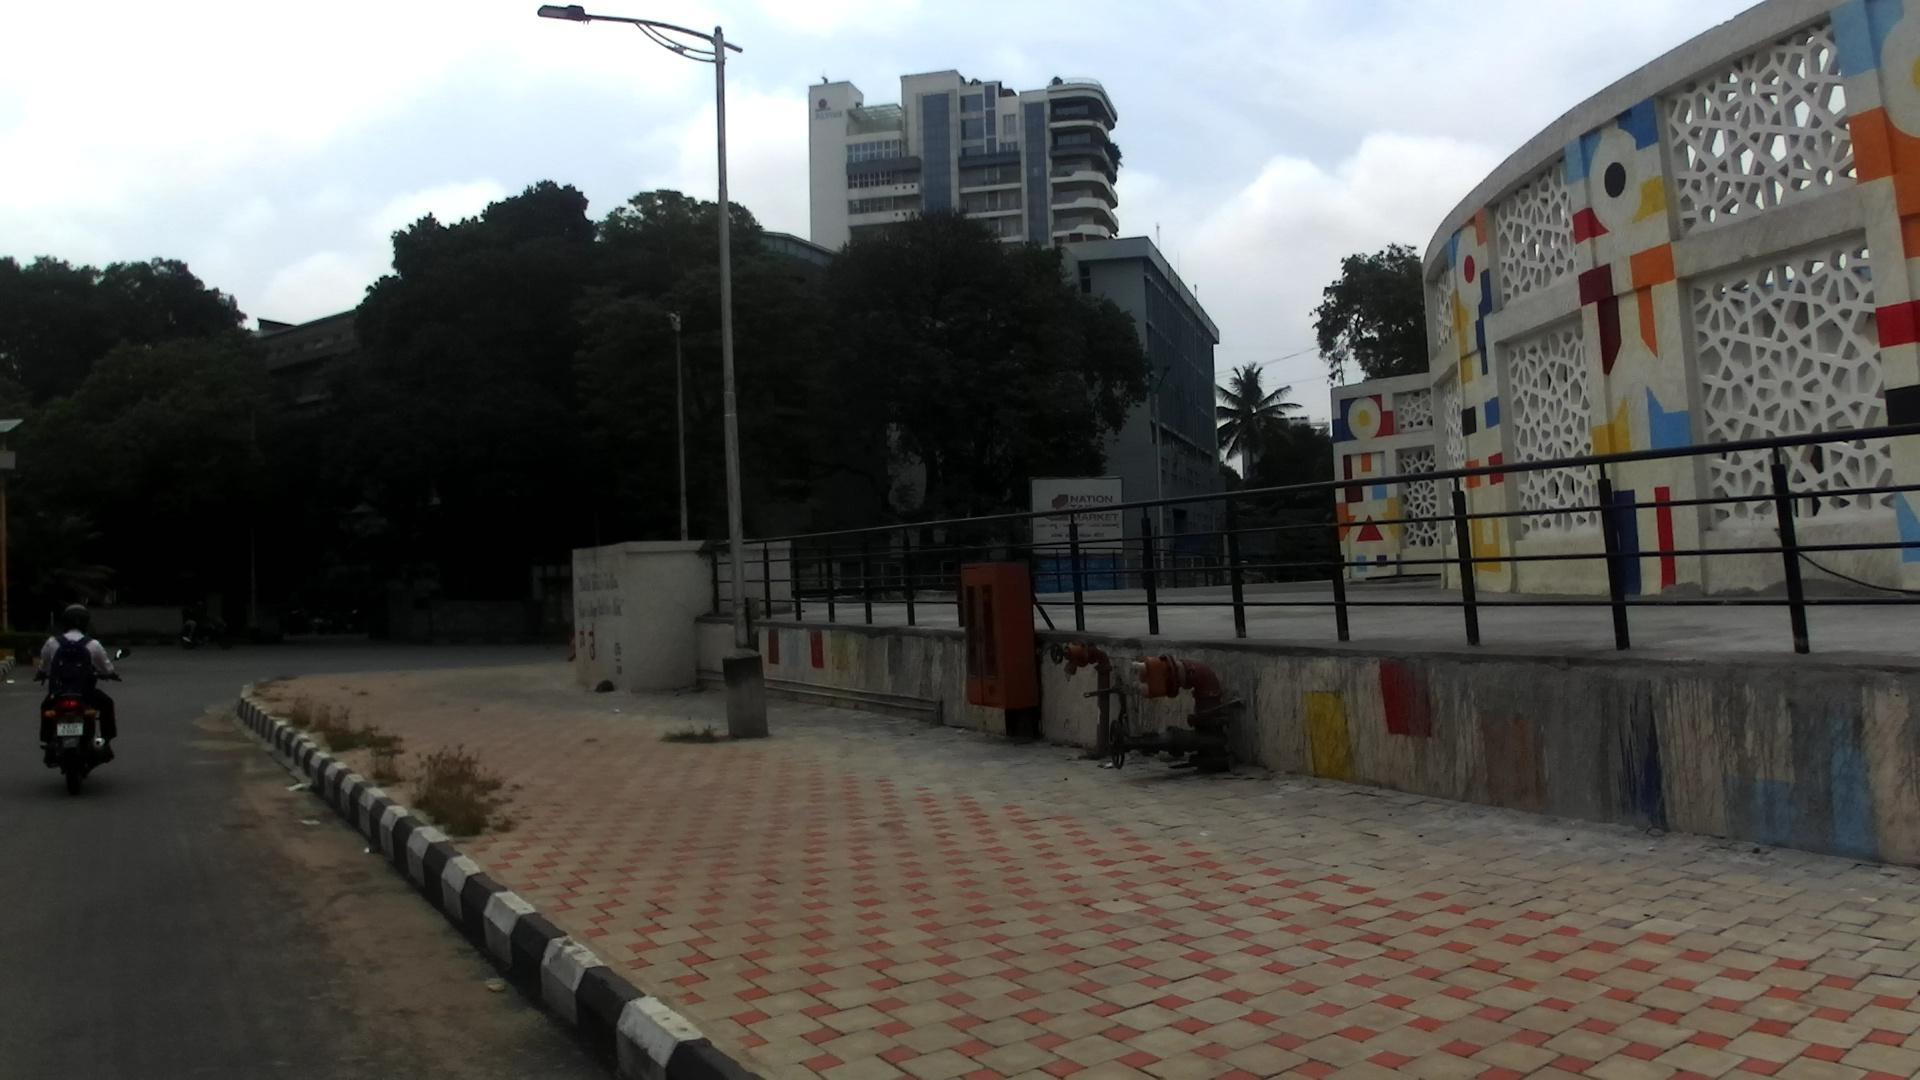off: (240, 282, 1920, 1080)
